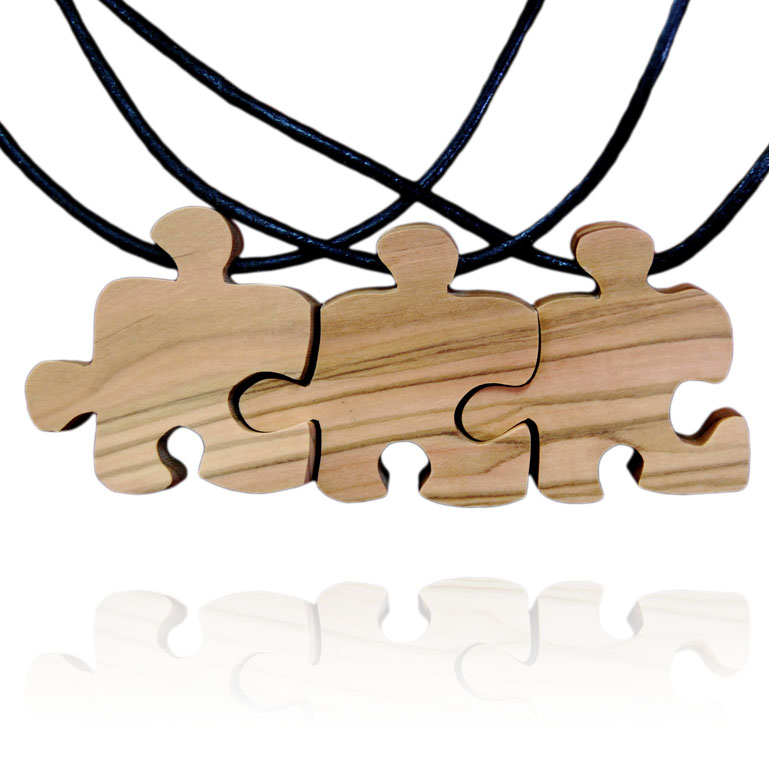puzzle piece: (24, 179, 339, 520)
